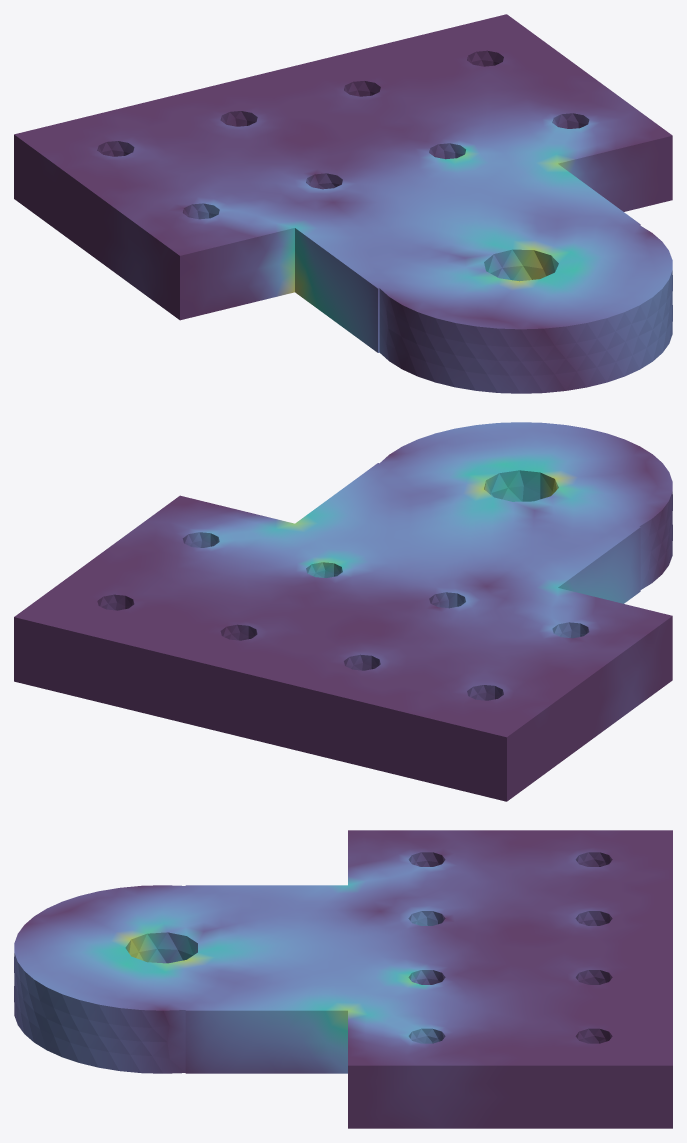
Rendered from CAD_CH-ATT-R.glb.
3 renders of one model, top to bottom at view 1: azimuth 30°, elevation 25°; view 2: azimuth 150°, elevation 25°; view 3: azimuth 270°, elevation 25°, orthographic. The views are drawn at different scales.
Visible parts, largest first — view 1: geometry_0; view 2: geometry_0; view 3: geometry_0.
Part boxes in pixels (x1=…): geometry_0: x1=14, y1=14, x2=672, y2=393; geometry_0: x1=14, y1=422, x2=672, y2=801; geometry_0: x1=14, y1=830, x2=672, y2=1128.
Size of the model in its own units: 0.12 by 0.015 by 0.142.
